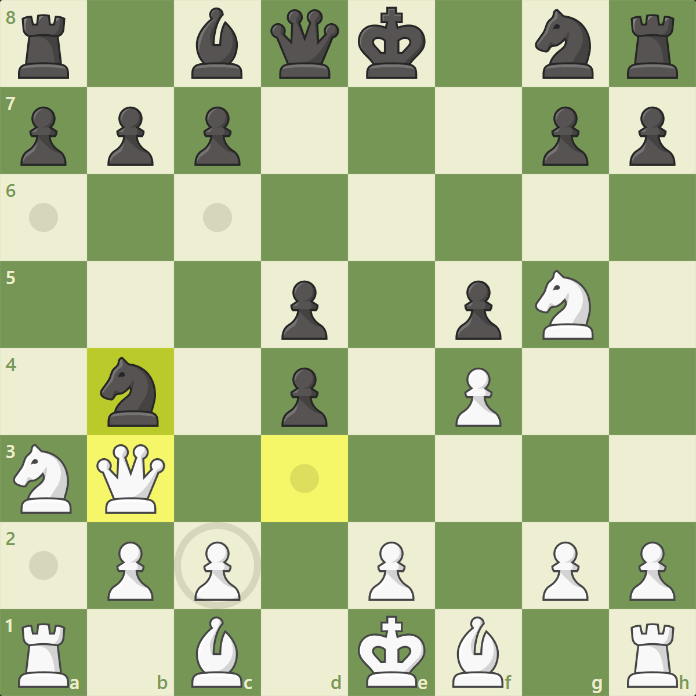B: (451, 614, 505, 691), (190, 615, 244, 691)
K: (356, 615, 427, 690)
N: (533, 268, 597, 343), (10, 443, 73, 516)
P: (105, 540, 155, 604), (191, 539, 241, 603), (366, 539, 416, 603), (540, 540, 590, 604), (628, 539, 678, 603), (453, 365, 503, 429)
Q: (94, 442, 168, 516)
R: (15, 621, 72, 691), (625, 620, 680, 691)
b: (190, 5, 244, 81)
k: (356, 5, 427, 81)
n: (532, 6, 597, 82), (99, 355, 161, 429)
p: (192, 104, 243, 168), (105, 105, 156, 169), (17, 104, 68, 168), (279, 365, 329, 429), (279, 279, 329, 343), (453, 279, 503, 343), (541, 105, 591, 169), (626, 105, 676, 169)
q: (269, 7, 342, 81)
r: (15, 11, 72, 81), (625, 12, 681, 82)
